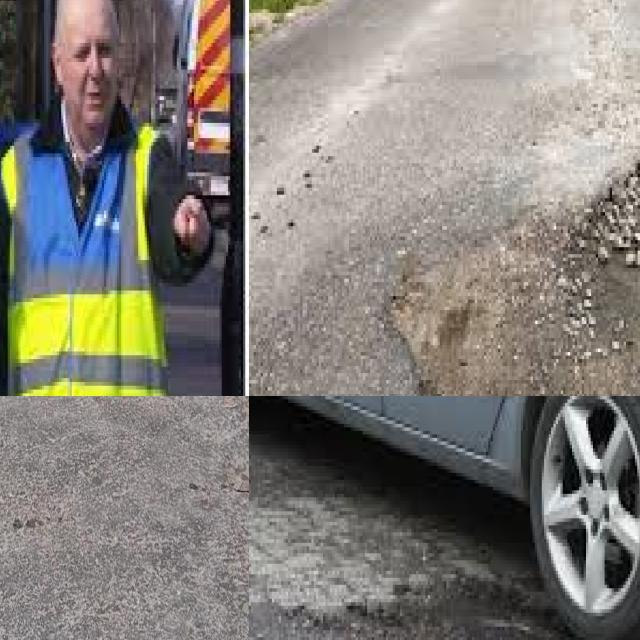Pothole: (391, 159, 640, 396), (353, 571, 574, 640)
